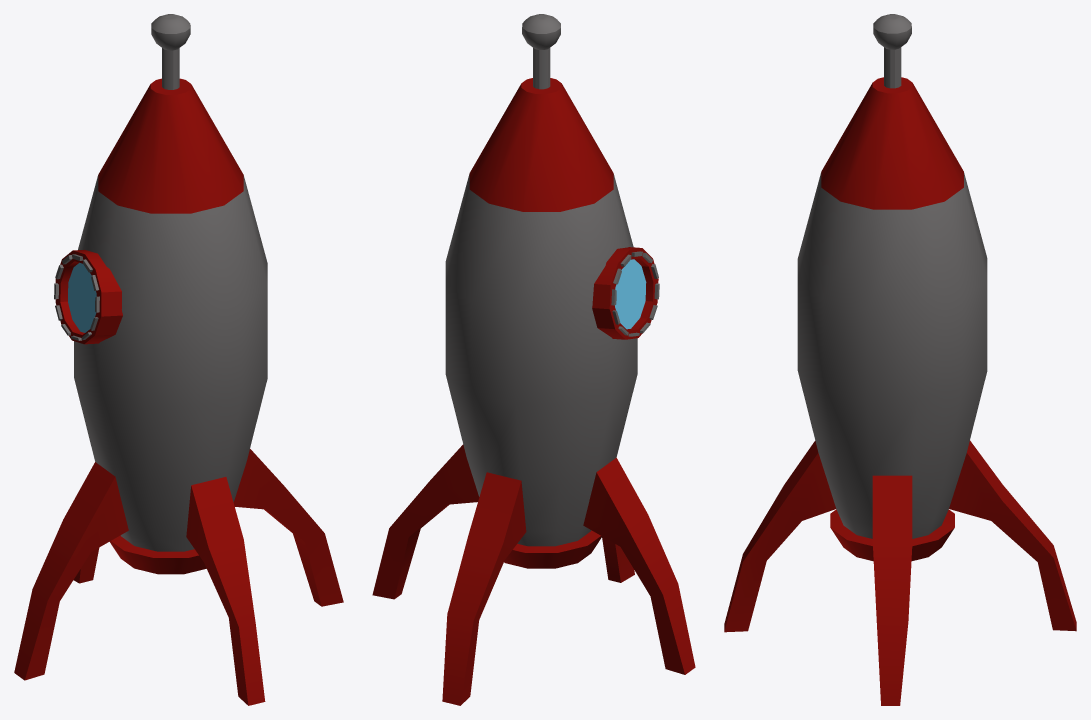
Rendered from COHETE .fbx.
3 renders of one model, left to right at view 1: azimuth 30°, elevation 25°; view 2: azimuth 150°, elevation 25°; view 3: azimuth 270°, elevation 25°, orthographic. The views are drawn at different scales.
Parts seen in each view (by area): view 1: COHETE; view 2: COHETE; view 3: COHETE.
Part boxes in pixels (x1,y1,x2,y2): COHETE: [14, 14, 343, 705]; COHETE: [372, 14, 695, 705]; COHETE: [724, 14, 1076, 705].
Bounding box in the file's own units: 0.3486 × 0.6537 × 0.3417.
